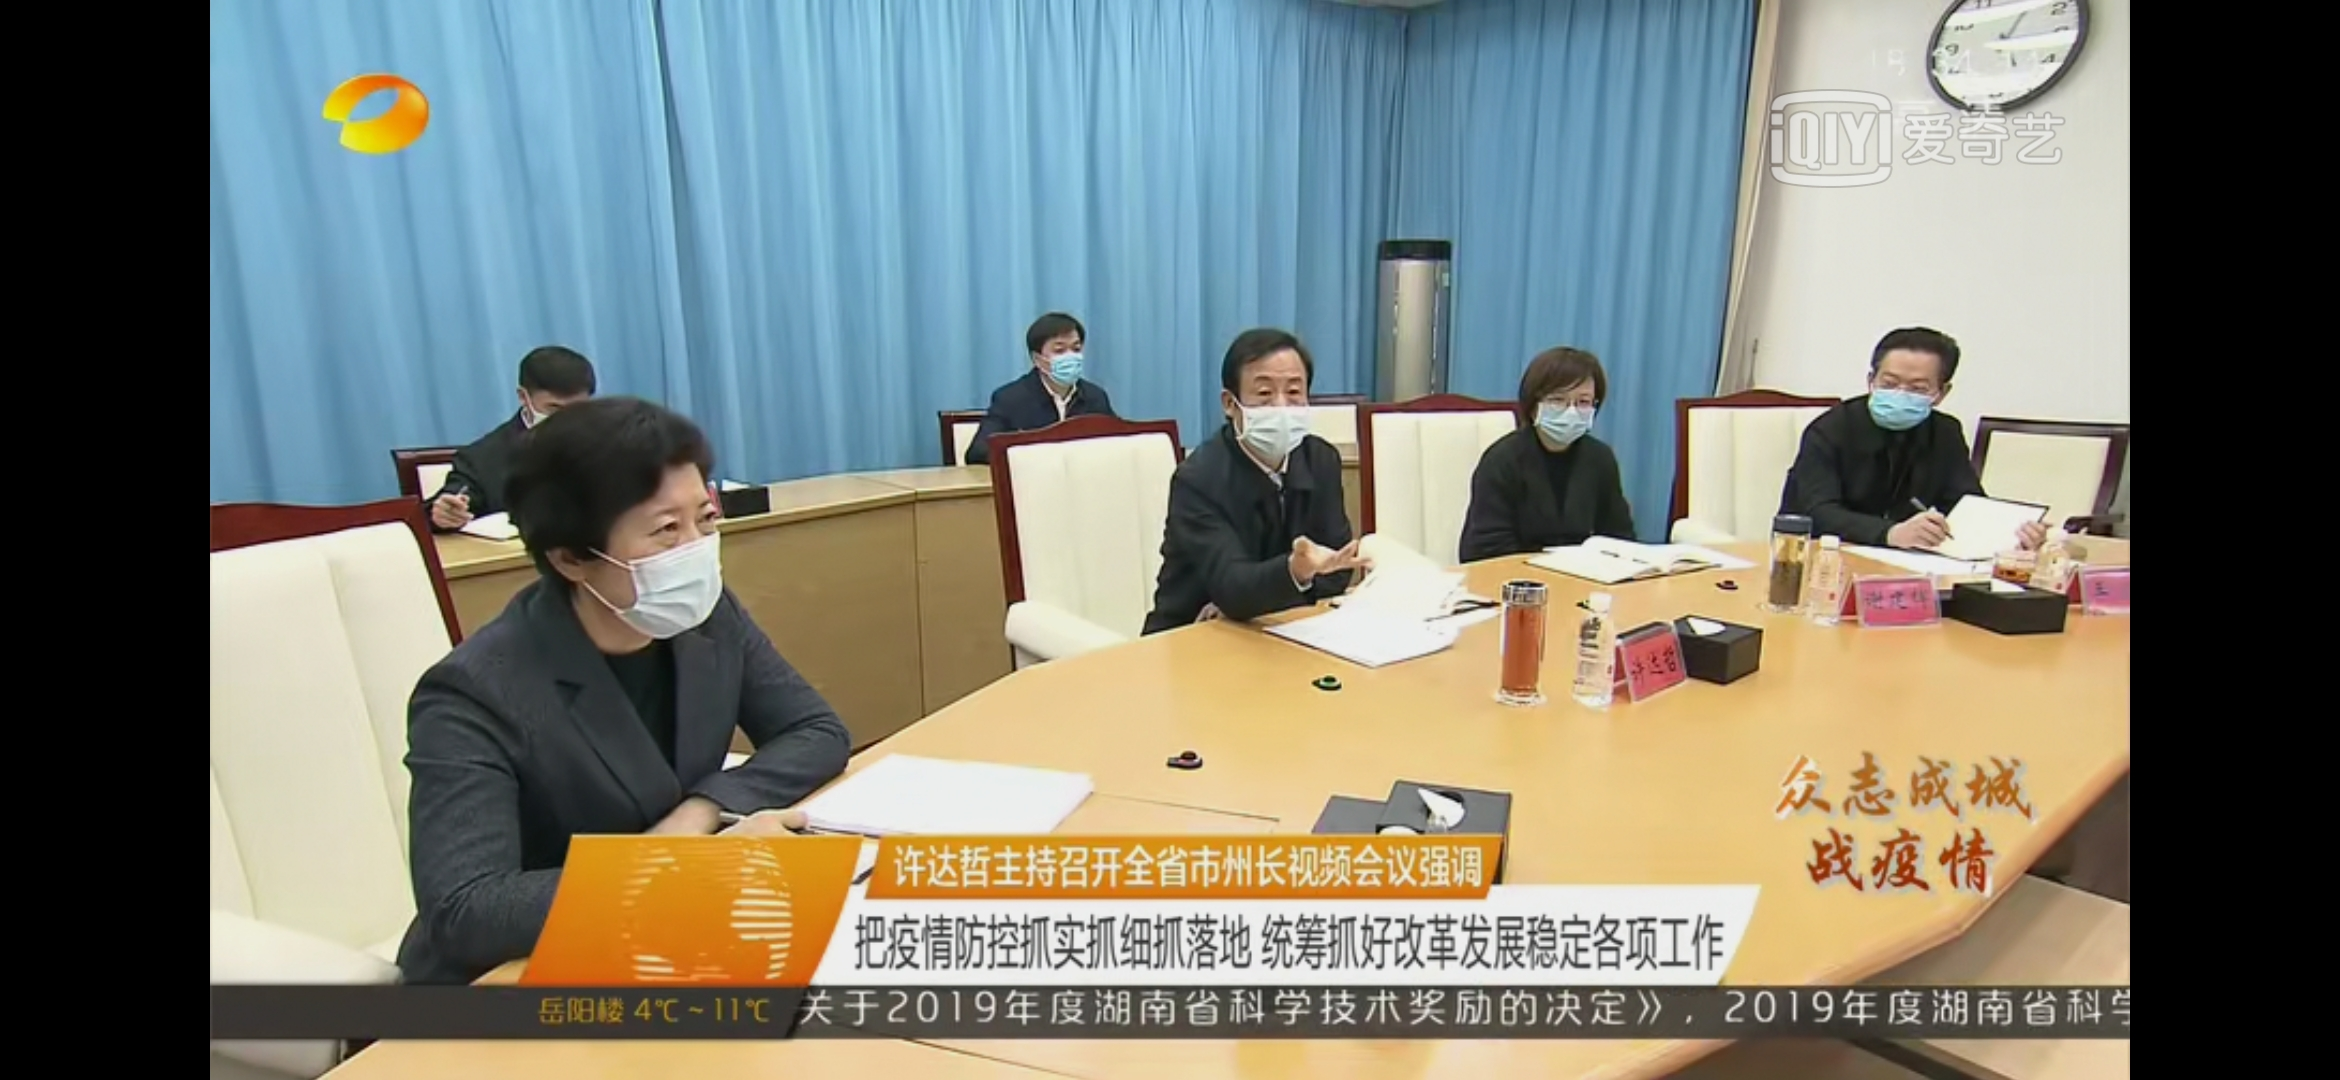correctlyWear: (539, 492, 745, 652), (1219, 324, 1316, 459), (1859, 324, 1967, 440), (1518, 343, 1603, 453), (1021, 312, 1097, 397)
noWear: (516, 361, 595, 433)
